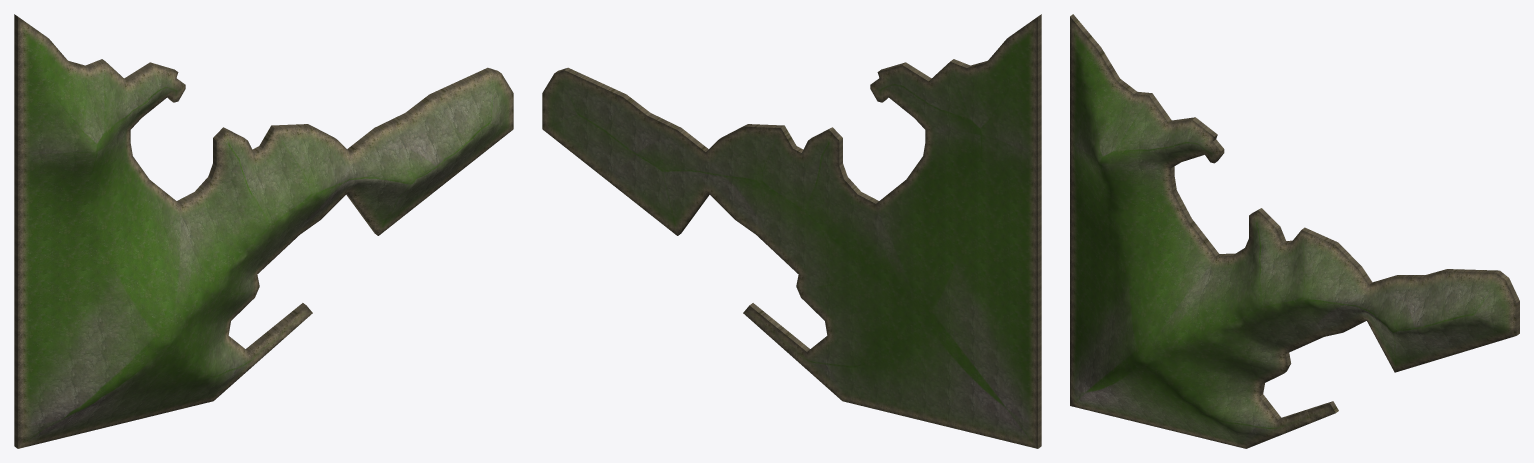
The model's file is green_island_002.obj.
The picture shows the model from 3 angles, left to right: view 1: azimuth 30°, elevation 25°; view 2: azimuth 150°, elevation 25°; view 3: azimuth 330°, elevation 25°; orthographic projection. The views are drawn at different scales.
Visible parts, largest first — view 1: terrain_surface, shoreline_skirt; view 2: seabed_cap, shoreline_skirt; view 3: terrain_surface, shoreline_skirt.
Part boxes in pixels (x1,y1,x2,y2): terrain_surface: (18,17,513,448); shoreline_skirt: (14,14,500,448); seabed_cap: (542,17,1037,448); shoreline_skirt: (555,14,1041,448); terrain_surface: (1070,17,1516,448); shoreline_skirt: (1070,14,1519,419).
Bounding box in the file's own units: 414 × 345 × 55.85.
1 material, 1 textured.
